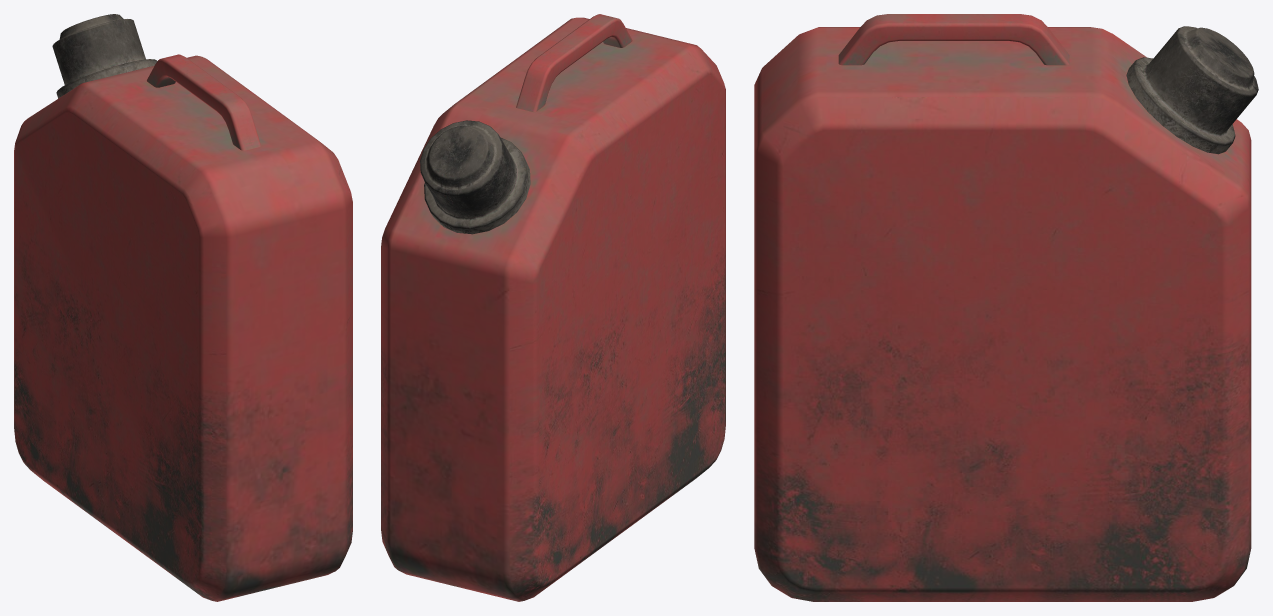
Rendered from SM_Jerry_Can.glb.
3 renders of one model, left to right at view 1: azimuth 30°, elevation 25°; view 2: azimuth 150°, elevation 25°; view 3: azimuth 270°, elevation 25°, orthographic. The views are drawn at different scales.
Visible parts, largest first — view 1: SM_Jerry_Can; view 2: SM_Jerry_Can; view 3: SM_Jerry_Can.
Part boxes in pixels (left/top/right/bottom): SM_Jerry_Can: left=14, top=14, right=352, bottom=601; SM_Jerry_Can: left=381, top=14, right=725, bottom=601; SM_Jerry_Can: left=754, top=14, right=1258, bottom=601.
Size of the model in its own units: 0.148 by 0.4282 by 0.3551.
Materials: 1 (1 with a texture image).
